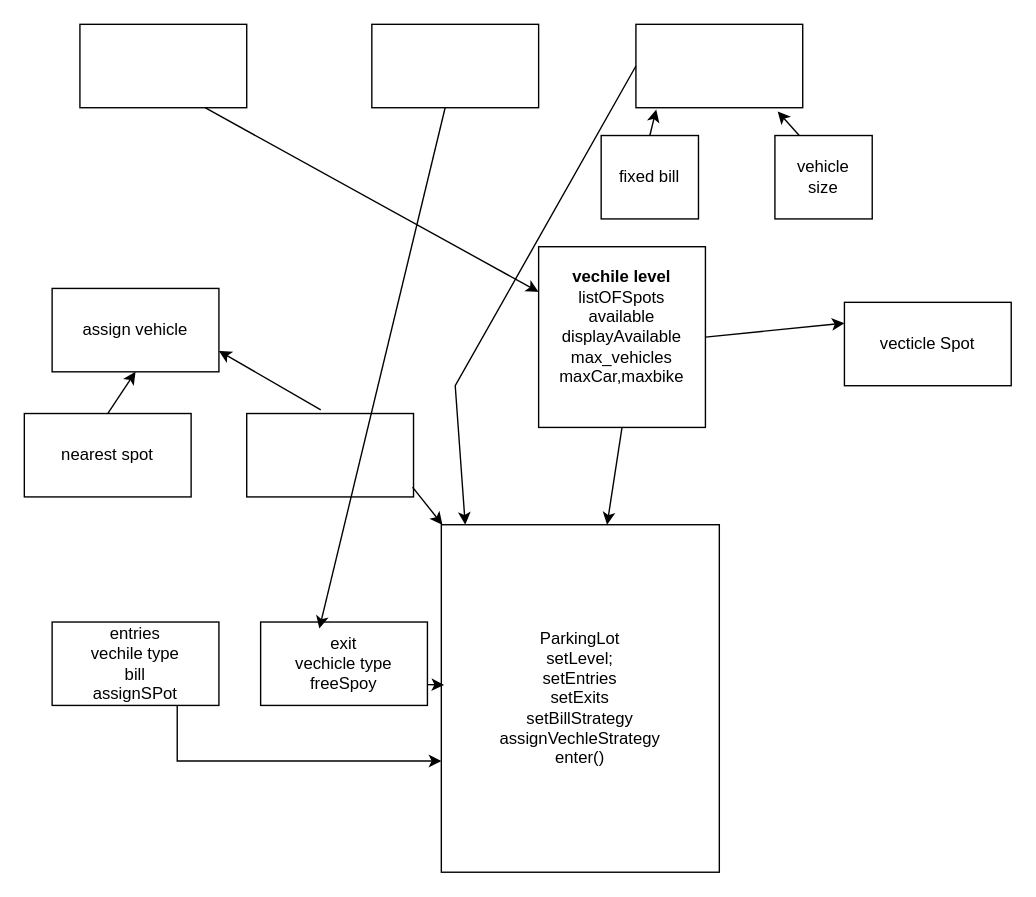
This 1036x897 diagram has some shape labels left out. The centre of each missing label's shape, as x and y in pixels:
best fit: pixel 329 454
bill Strategy: pixel 719 65
ticket slot price vehicle type: pixel 454 65
vechile id type: pixel 163 65
